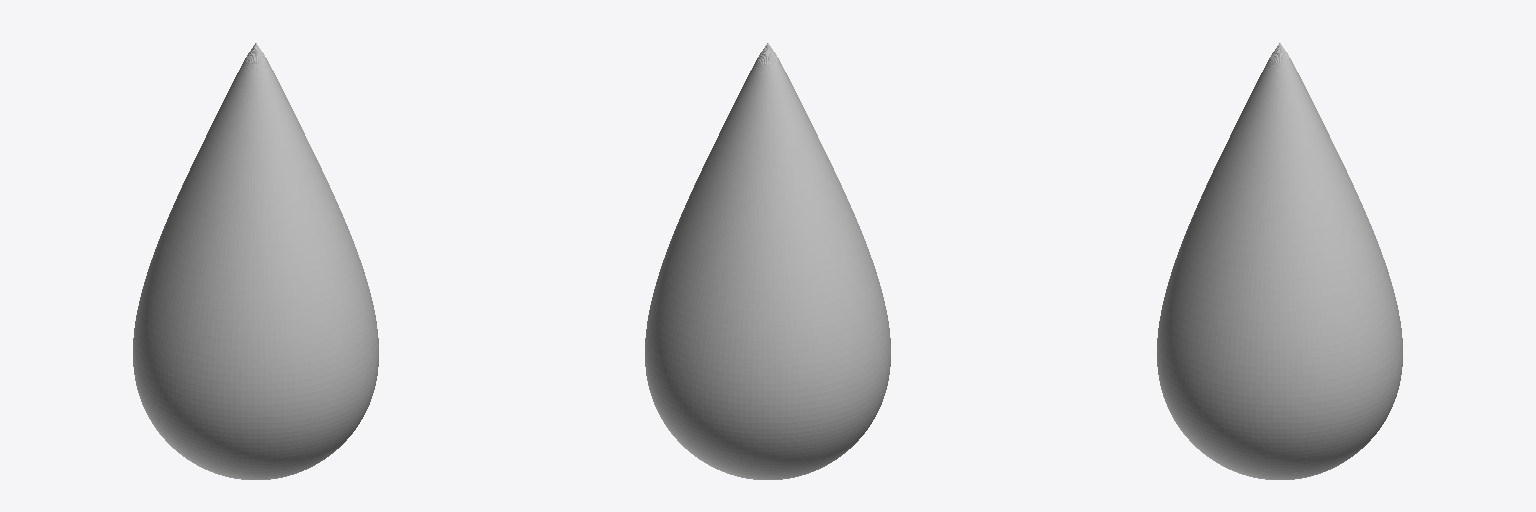
The model's file is waterdrop.obj.
3 views of the same model, side by side, from view 1: azimuth 30°, elevation 25°; view 2: azimuth 150°, elevation 25°; view 3: azimuth 270°, elevation 25° (orthographic).
Parts seen in each view (by area): view 1: Sphere; view 2: Sphere; view 3: Sphere.
Boxes of the visible parts, x1,y1,x2,y2 form: Sphere: [133, 43, 378, 479]; Sphere: [645, 43, 890, 479]; Sphere: [1157, 43, 1402, 479].
Size of the model in its own units: 1.97 by 3.78 by 1.97.